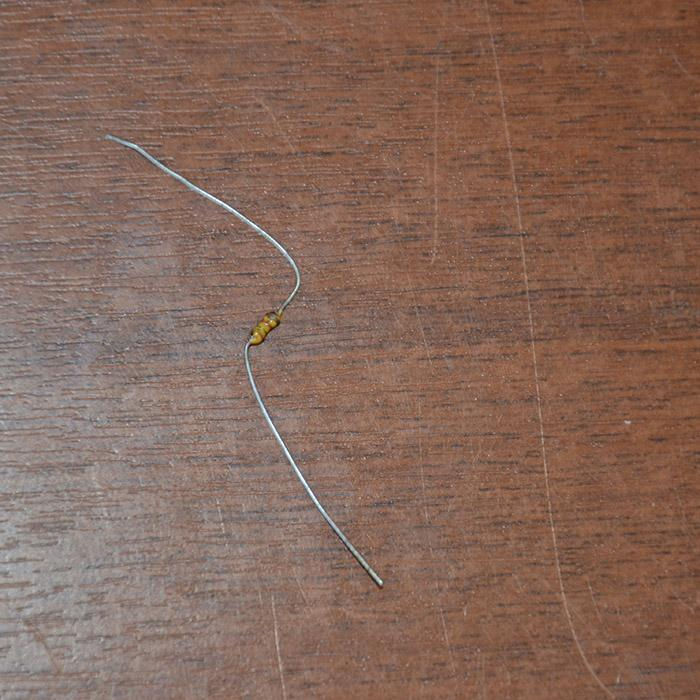resistor: (248, 309, 281, 344)
